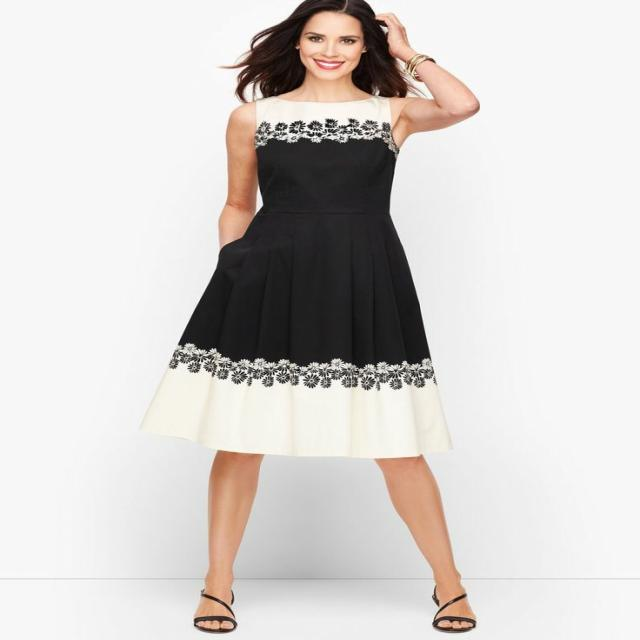female-dress: (204, 81, 442, 454)
